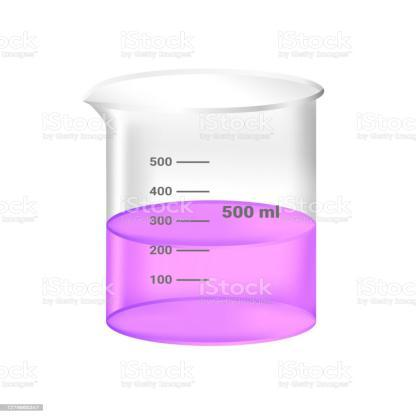Beaker: (78, 70, 329, 346)
